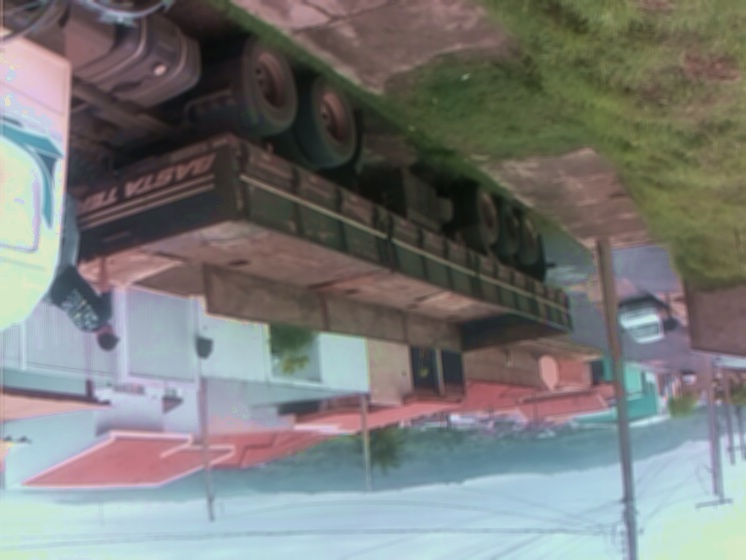person: (50, 183, 121, 352)
